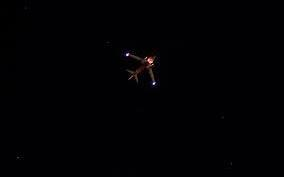Plane: (124, 36, 165, 101)
